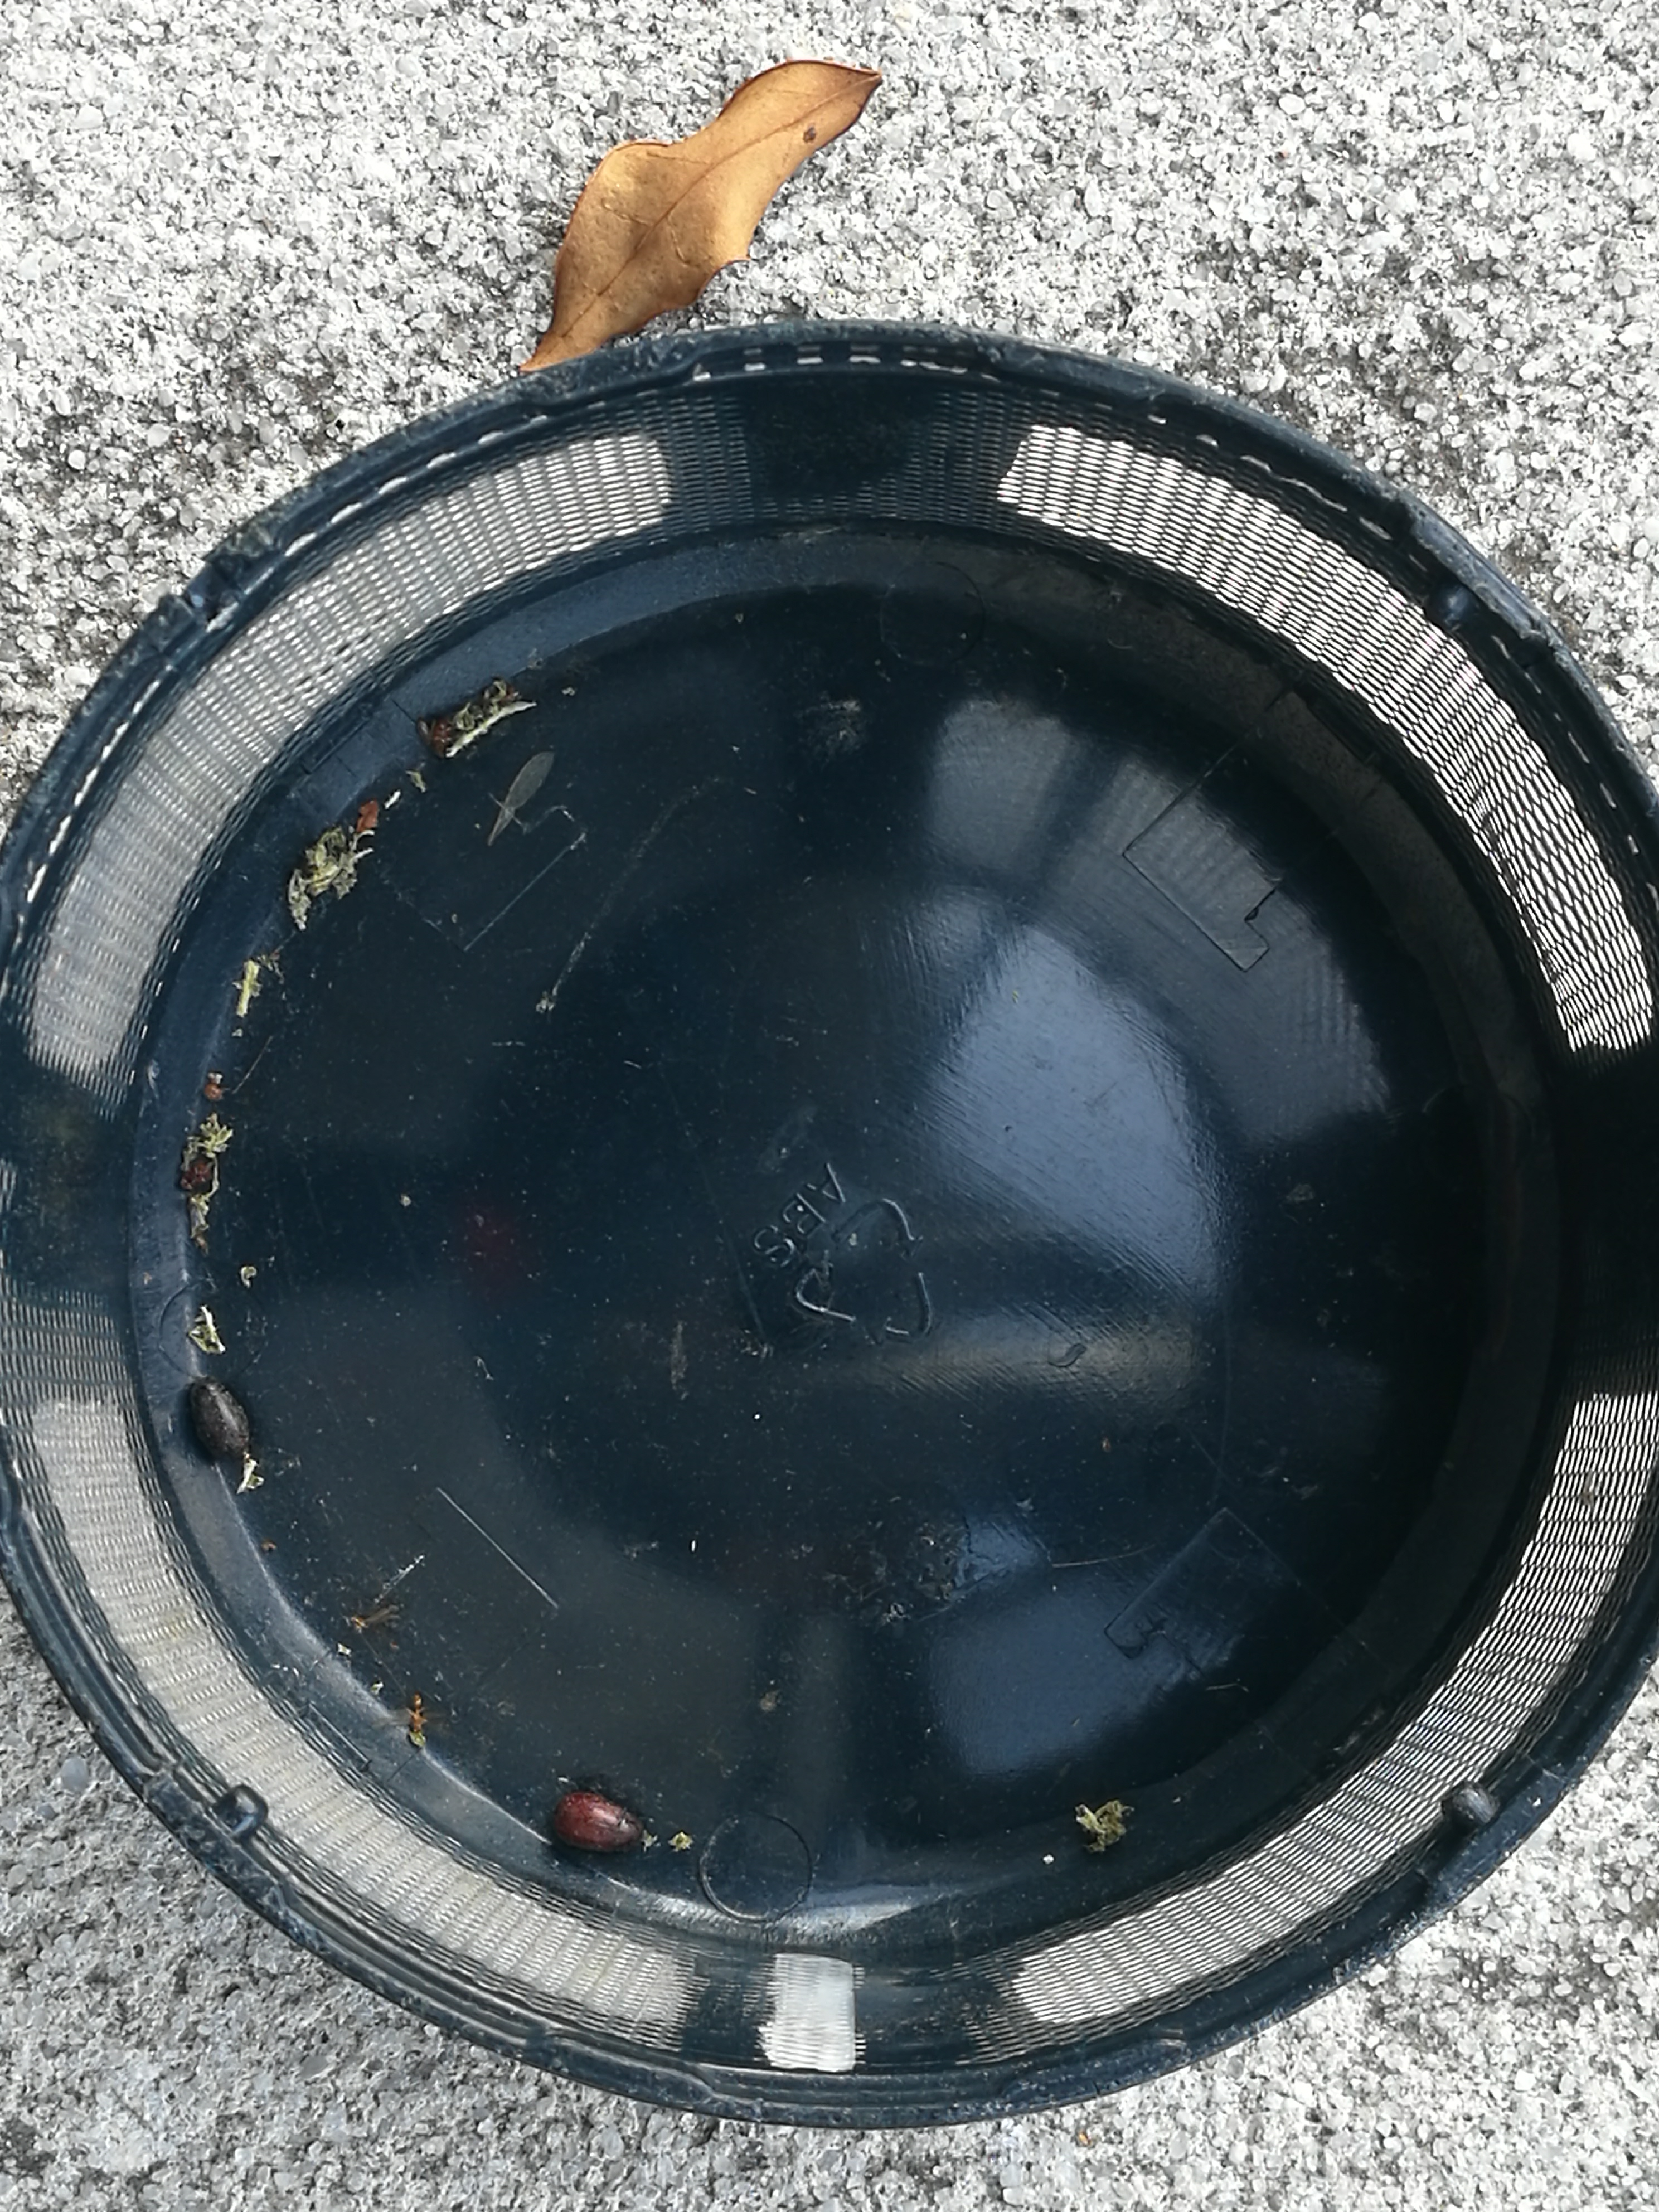beetle: (554, 1791, 643, 1850), (192, 1379, 249, 1460)
